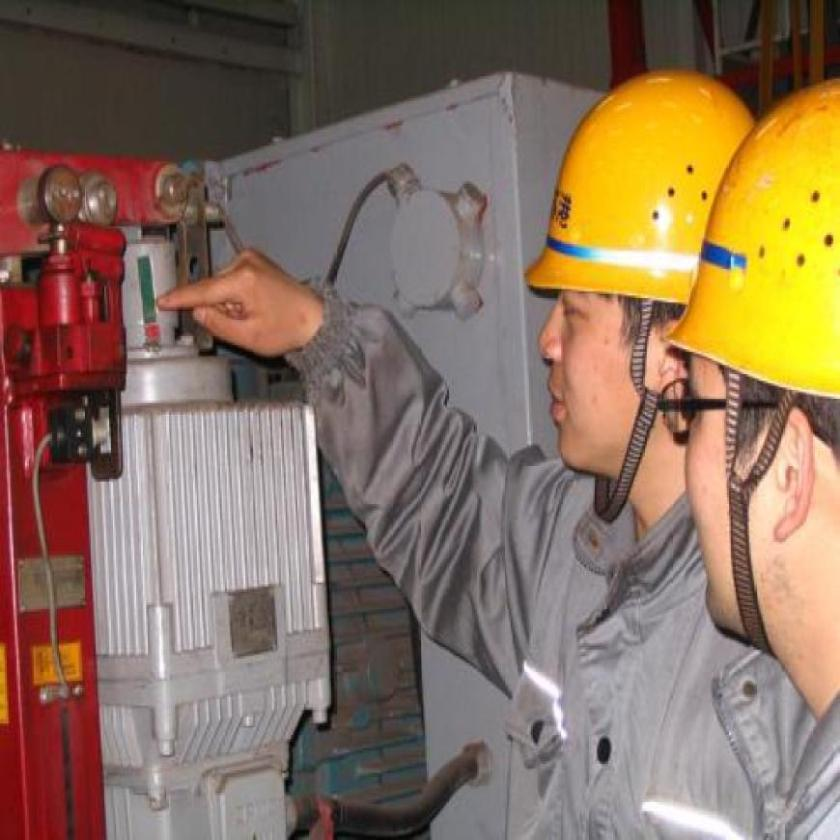Con_casco: (525, 60, 747, 495), (680, 80, 840, 661)
